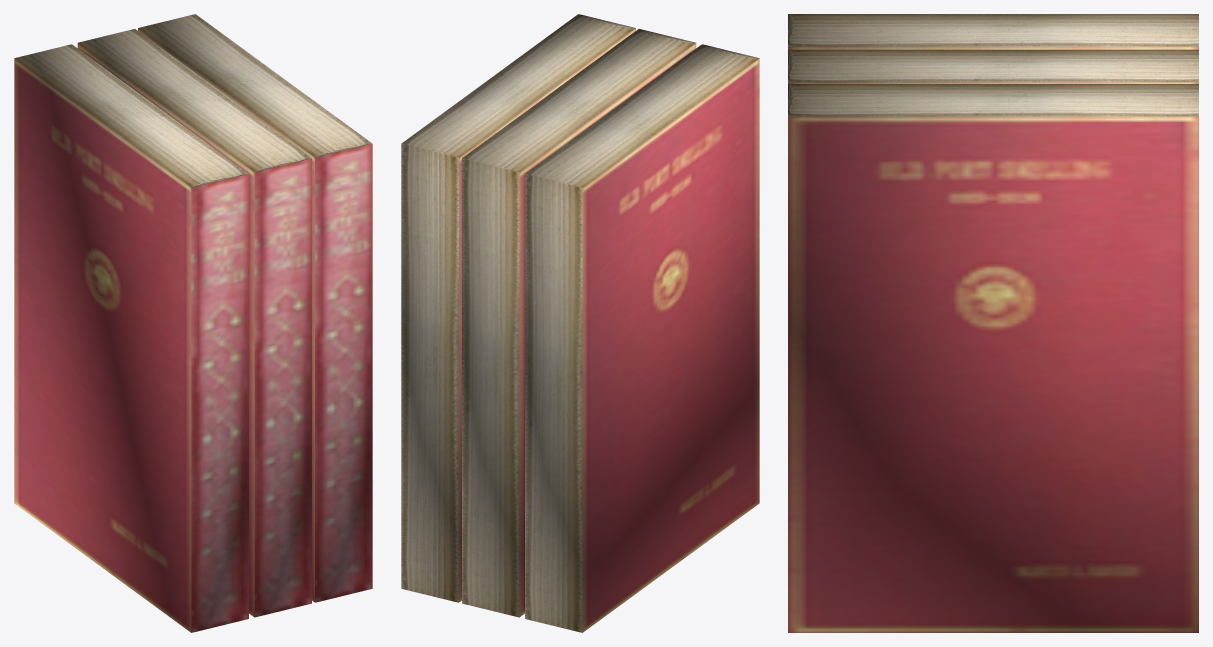
The model's file is off_books2A.fbx.
The picture shows the model from 3 angles, left to right: view 1: azimuth 30°, elevation 25°; view 2: azimuth 150°, elevation 25°; view 3: azimuth 270°, elevation 25°; orthographic projection. The views are drawn at different scales.
Parts seen in each view (by area): view 1: Book1, Book2, Book3; view 2: Book1, Book2, Book3; view 3: Book3, Book1, Book2.
Part boxes in pixels (<box>): Book1: <box>14,44,248,632</box>; Book2: <box>77,29,311,617</box>; Book3: <box>138,14,372,602</box>; Book1: <box>525,44,759,632</box>; Book2: <box>462,29,696,617</box>; Book3: <box>401,14,635,602</box>; Book3: <box>788,84,1198,632</box>; Book1: <box>788,14,1198,49</box>; Book2: <box>788,49,1198,83</box>.
Size of the model in its own units: 0.3218 by 0.7555 by 0.5447.
